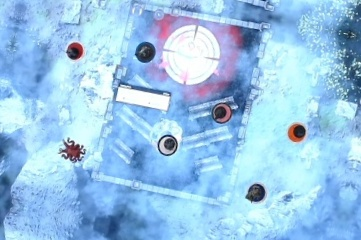blue: (242, 179, 270, 207)
brown_turquoise: (131, 40, 159, 68)
orange: (282, 118, 310, 146)
pink_green: (208, 98, 235, 125)
red: (62, 38, 90, 65)
white: (56, 135, 90, 166), (154, 130, 181, 158)
